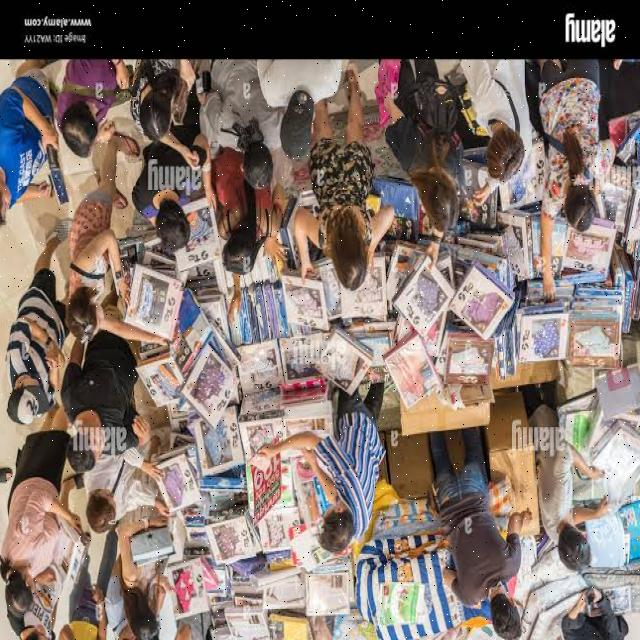humans: (253, 389, 389, 555), (424, 434, 532, 638), (294, 68, 388, 289), (376, 59, 460, 270), (520, 388, 615, 574), (57, 149, 137, 346), (528, 66, 617, 231), (2, 412, 68, 611), (0, 239, 67, 429), (449, 60, 532, 196), (203, 60, 286, 196), (1, 229, 57, 428), (61, 345, 155, 461), (210, 160, 278, 304), (129, 138, 211, 257), (252, 58, 342, 160), (121, 491, 182, 638), (0, 60, 53, 229), (44, 55, 124, 155), (130, 60, 193, 148), (83, 444, 148, 528), (64, 551, 117, 640), (3, 586, 57, 640)
